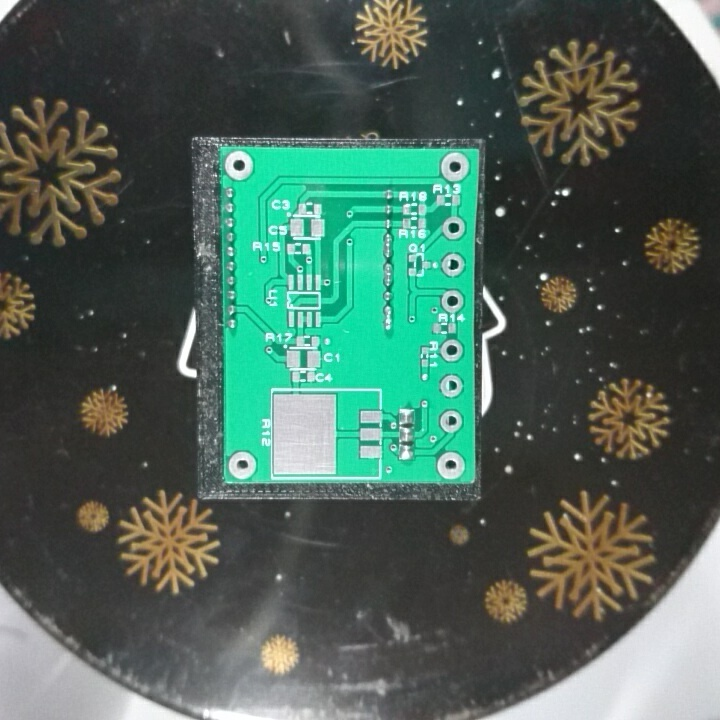F: (222, 149, 257, 183), (438, 151, 472, 183), (227, 450, 259, 481), (436, 451, 468, 480), (439, 249, 470, 278), (437, 372, 465, 400), (441, 215, 469, 241), (439, 287, 465, 315), (438, 409, 465, 435), (440, 338, 465, 365)
P: (379, 259, 397, 289), (380, 303, 397, 334), (380, 229, 397, 259)
